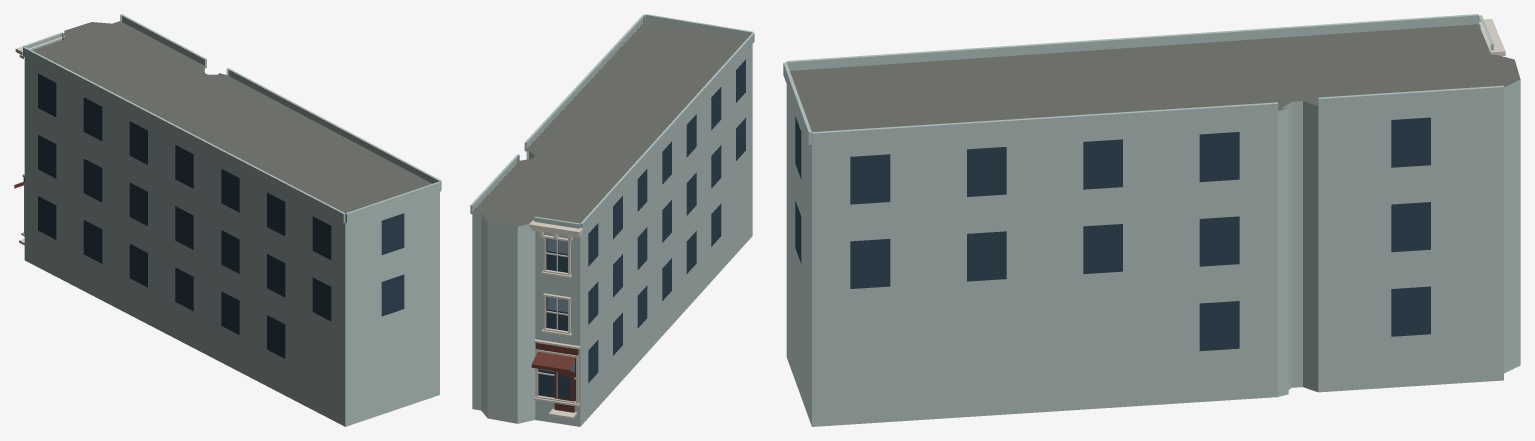
3 renders of one model, left to right at view 1: azimuth 30°, elevation 25°; view 2: azimuth 150°, elevation 25°; view 3: azimuth 270°, elevation 25°, orthographic. The views are drawn at different scales.
Visible parts, largest first — view 1: Footprint 0 / surface 2, Footprint 0 / surface 1, Inset glazing, Facade bay volumes; view 2: Footprint 0 / surface 2, Footprint 0 / surface 1, Inset glazing, Facade bay volumes, Cornices and window frames, Storefronts and doors, Sky reflection panels; view 3: Footprint 0 / surface 2, Footprint 0 / surface 1, Inset glazing, Facade bay volumes.
Boxes of the visible parts, x1,y1,x2,y2 form: Footprint 0 / surface 2: [24, 57, 439, 426]; Footprint 0 / surface 1: [32, 21, 431, 213]; Inset glazing: [38, 73, 404, 358]; Facade bay volumes: [23, 14, 441, 222]; Footprint 0 / surface 2: [472, 44, 752, 426]; Footprint 0 / surface 1: [473, 21, 747, 226]; Inset glazing: [538, 59, 745, 401]; Facade bay volumes: [470, 14, 754, 232]; Cornices and window frames: [529, 220, 582, 419]; Storefronts and doors: [531, 342, 578, 412]; Sky reflection panels: [540, 238, 574, 374]; Footprint 0 / surface 2: [786, 79, 1520, 426]; Footprint 0 / surface 1: [790, 24, 1520, 131]; Inset glazing: [795, 116, 1430, 351]; Facade bay volumes: [783, 14, 1504, 145].
Size of the model in its own units: 10.32 by 11.73 by 26.59.
